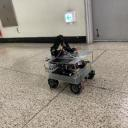cart: (42, 50, 96, 95)
